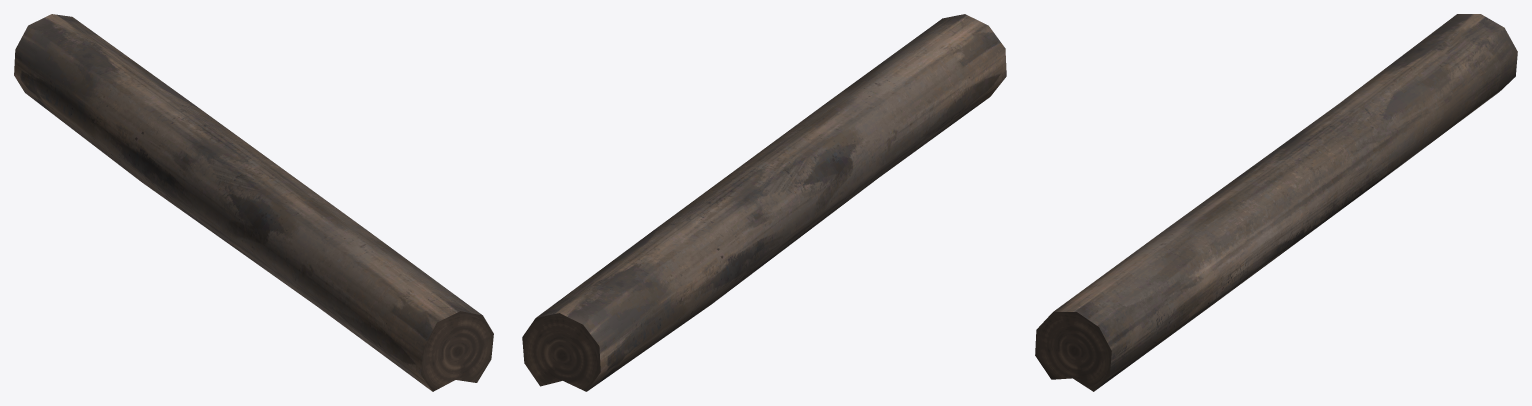
The model's file is log.fbx.
3 views of the same model, side by side, from view 1: azimuth 30°, elevation 25°; view 2: azimuth 150°, elevation 25°; view 3: azimuth 330°, elevation 25° (orthographic).
Parts seen in each view (by area): view 1: log; view 2: log; view 3: log.
Part boxes in pixels (bbox=[...]): log: bbox=[14, 14, 493, 391]; log: bbox=[522, 14, 1006, 391]; log: bbox=[1035, 14, 1517, 391].
Size of the model in its own units: 25.17 by 22.9 by 223.
